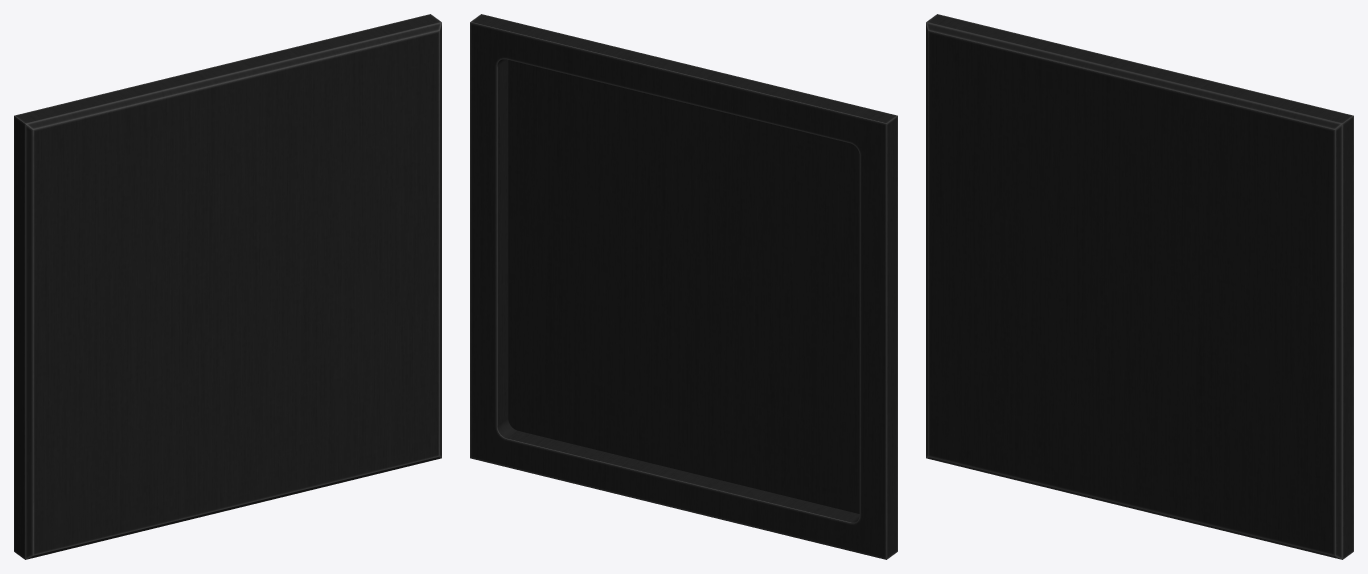
File: Noir.glb
3 renders of one model, left to right at view 1: azimuth 30°, elevation 25°; view 2: azimuth 150°, elevation 25°; view 3: azimuth 330°, elevation 25°, orthographic.
Parts seen in each view (by area): view 1: 4; view 2: 4; view 3: 4.
Boxes of the visible parts, <box> form: 4: <box>14,14,441,559</box>; 4: <box>470,14,897,559</box>; 4: <box>926,14,1353,559</box>.
Bounding box in the file's own units: 0.085 × 0.085 × 0.005.
Materials: 1 (1 with a texture image).
